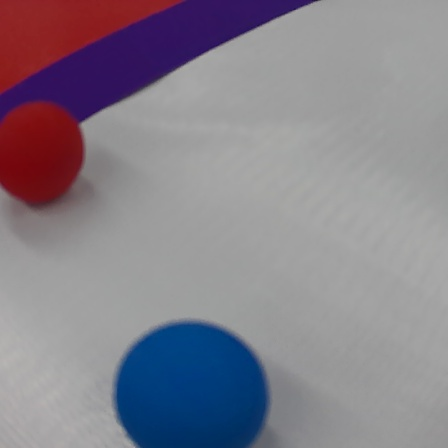blue: (111, 319, 278, 448)
red: (5, 100, 89, 214)
red_aim: (0, 0, 326, 159)
